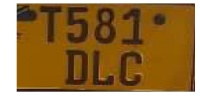T: (38, 5, 63, 43)
